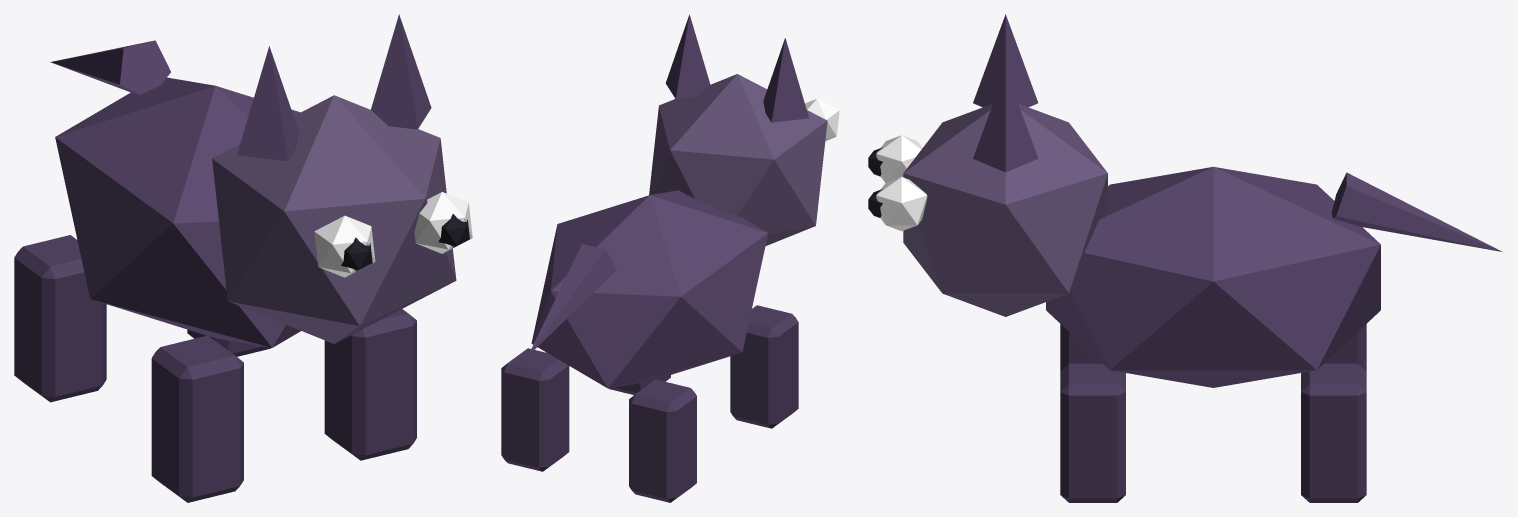
Rendered from ClawCat.fbx.
The picture shows the model from 3 angles, left to right: view 1: azimuth 30°, elevation 25°; view 2: azimuth 150°, elevation 25°; view 3: azimuth 270°, elevation 25°; orthographic projection. The views are drawn at different scales.
Parts seen in each view (by area): view 1: ClawCat; view 2: ClawCat; view 3: ClawCat.
Boxes of the visible parts, <box> form: ClawCat: <box>14,14,472,502</box>; ClawCat: <box>501,14,839,502</box>; ClawCat: <box>868,14,1502,502</box>.
Bounding box in the file's own units: 3.01 × 5.43 × 7.55.
1 material, 1 textured.
